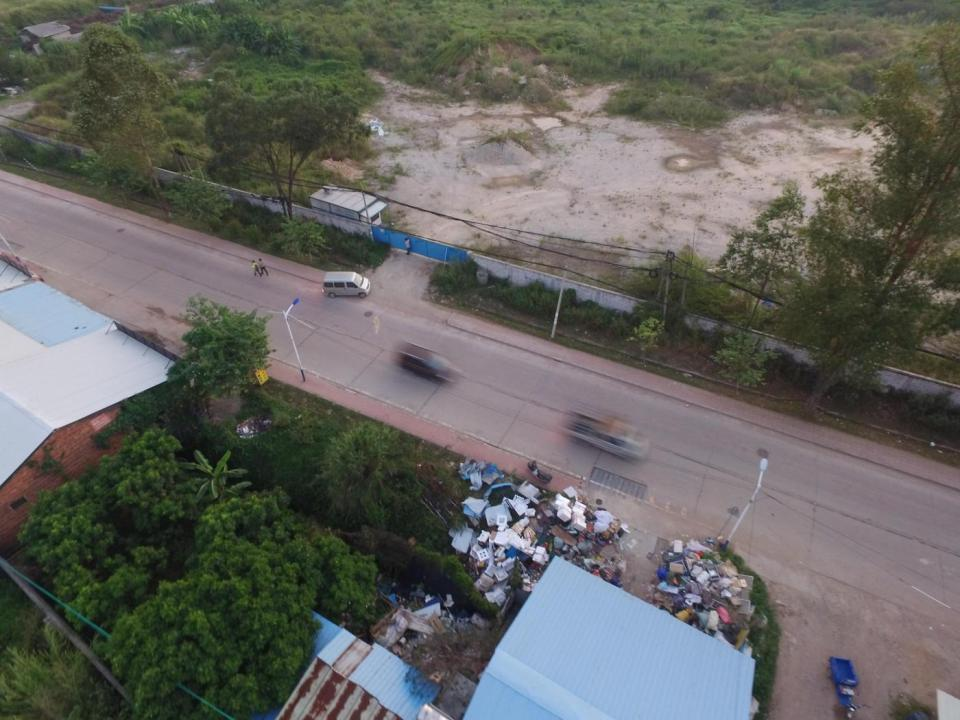truck: (566, 405, 652, 462), (398, 342, 466, 383)
van: (322, 270, 371, 297)
